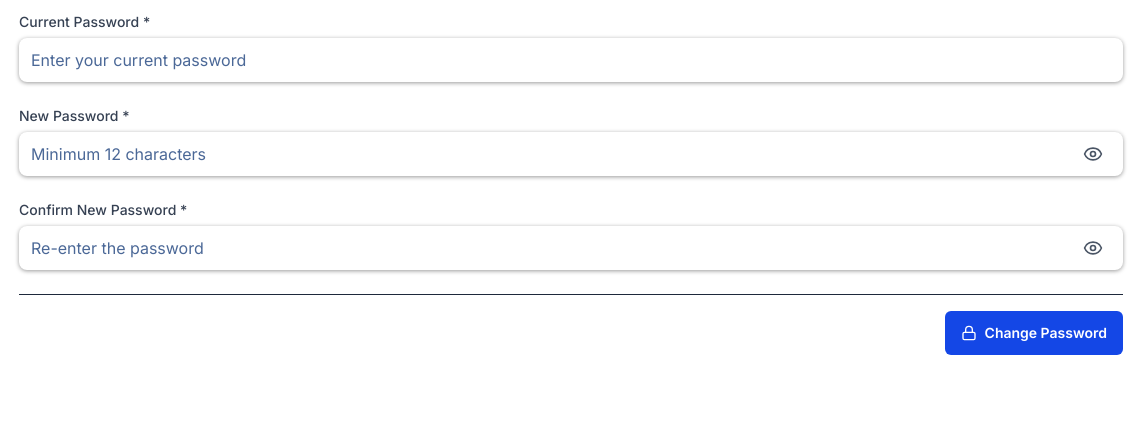
Test: PasswordSettings › validates required fields
Click the button "Change Password". click: {"x": 1034, "y": 333}
box: [945,311,1123,355]
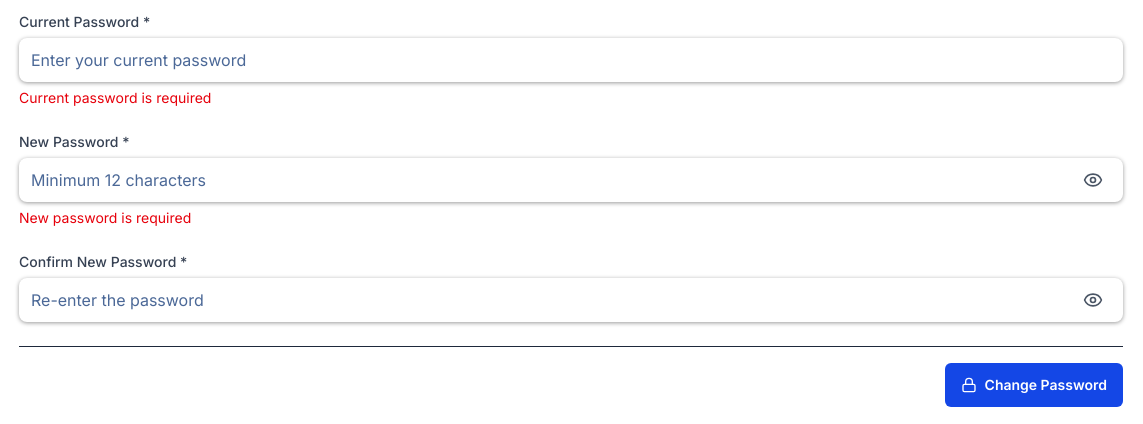
Check: the text "Current password is required" is shown, box [19,89,211,106]
Check: the text "New password is required" is shown, box [19,209,191,226]
